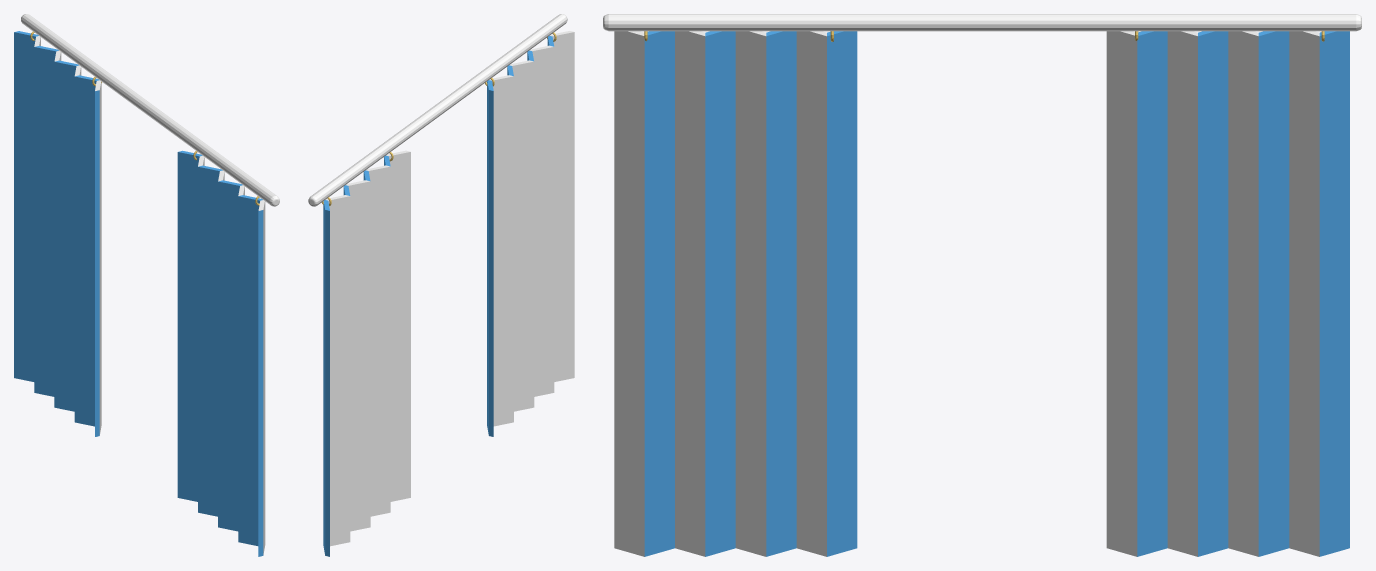
File: Curtain_3.fbx
The picture shows the model from 3 angles, left to right: view 1: azimuth 30°, elevation 25°; view 2: azimuth 150°, elevation 25°; view 3: azimuth 270°, elevation 25°; orthographic projection. The views are drawn at different scales.
Parts seen in each view (by area): view 1: Curtain_3; view 2: Curtain_3; view 3: Curtain_3.
Part boxes in pixels (bbox=[...]): Curtain_3: bbox=[14, 14, 279, 556]; Curtain_3: bbox=[308, 14, 574, 556]; Curtain_3: bbox=[603, 14, 1361, 556].
Size of the model in its own units: 0.1551 by 2.79 by 3.55.
